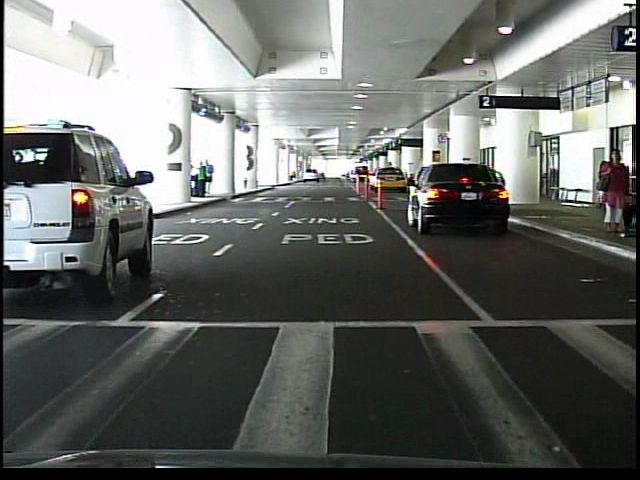person: (595, 149, 629, 239), (596, 154, 610, 209), (194, 160, 207, 199), (205, 160, 215, 198)
